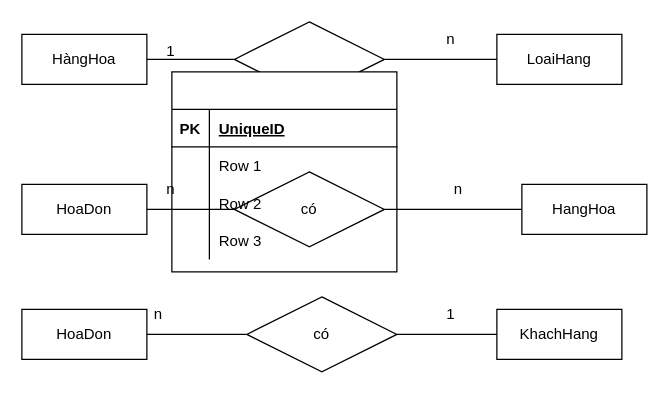
Some shapes in this 669 by 394 pixel diagram are drawn without their labels. Here are the shapes that lost their labels. From the top down, the box of each, then its label:
(233, 21, 384, 97): thuộc
(171, 71, 397, 272): Table
